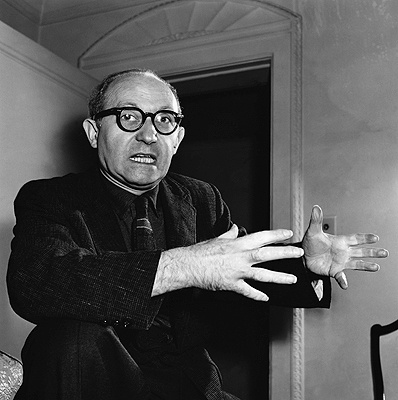bad: (106, 86, 195, 176)
